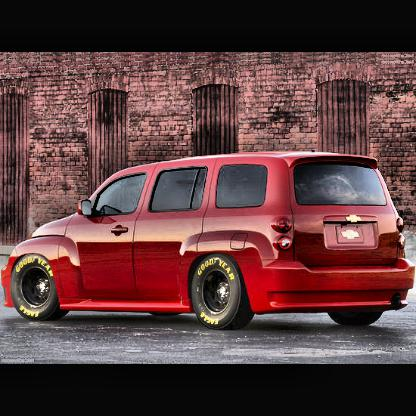Chevrolet HHR SS 2010: (2, 146, 416, 332)
